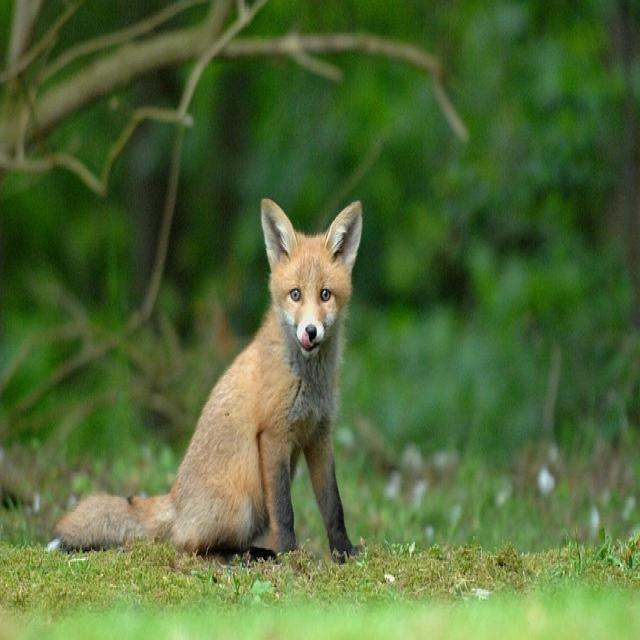Carnivorous: (48, 199, 363, 566)
